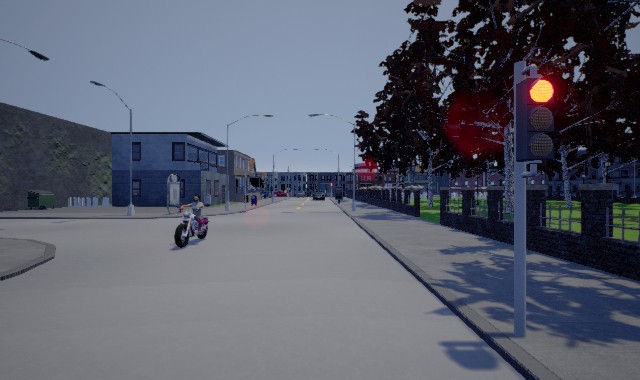bike: (174, 195, 210, 247)
traffic_light: (516, 71, 560, 161)
vehicle: (311, 189, 324, 201)
